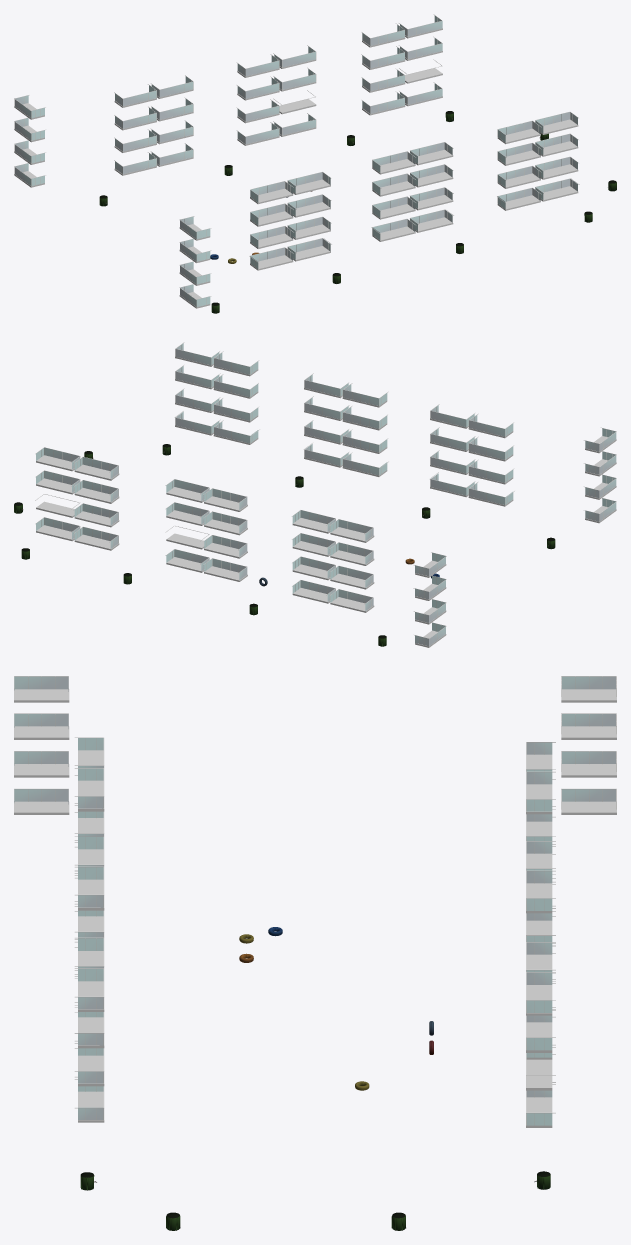
Rendered from FFFFFFF.fbx.
The picture shows the model from 3 angles, top to bottom: view 1: azimuth 30°, elevation 25°; view 2: azimuth 150°, elevation 25°; view 3: azimuth 270°, elevation 25°; orthographic projection. The views are drawn at different scales.
Parts seen in each view (by area): view 1: Cylinder.033; view 2: Cylinder.033; view 3: Cylinder.033, Cube.283, Cube.344, Cube.345, Cube.346, Cube.348, Cube.353, Cube.354, Cube.356, Cube.347, Cube.355, Cube.352 (+3 smaller).
Boxes of the visible parts, x1,y1,x2,y2 form: Cylinder.033: [99, 111, 616, 313]; Cylinder.033: [14, 444, 555, 646]; Cylinder.033: [80, 1171, 550, 1230]; Cube.283: [526, 1059, 552, 1090]; Cube.344: [561, 676, 616, 696]; Cube.345: [561, 726, 616, 739]; Cube.346: [561, 764, 616, 777]; Cube.348: [561, 689, 616, 702]; Cube.353: [14, 726, 69, 739]; Cube.354: [14, 764, 69, 777]; Cube.356: [14, 689, 69, 702]; Cube.347: [561, 801, 616, 814]; Cube.355: [14, 801, 69, 814]; Cube.352: [14, 676, 68, 691].
Size of the model in its own units: 15778 by 3646 by 10623.
